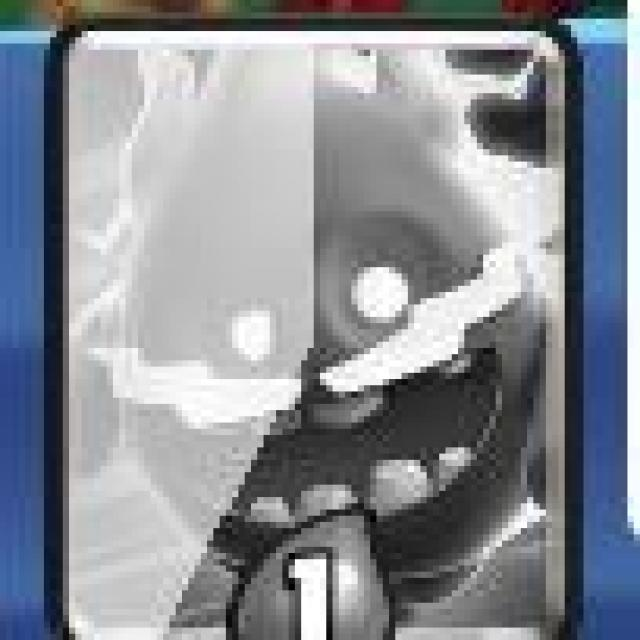Electro_Spirit: (42, 15, 577, 640)
